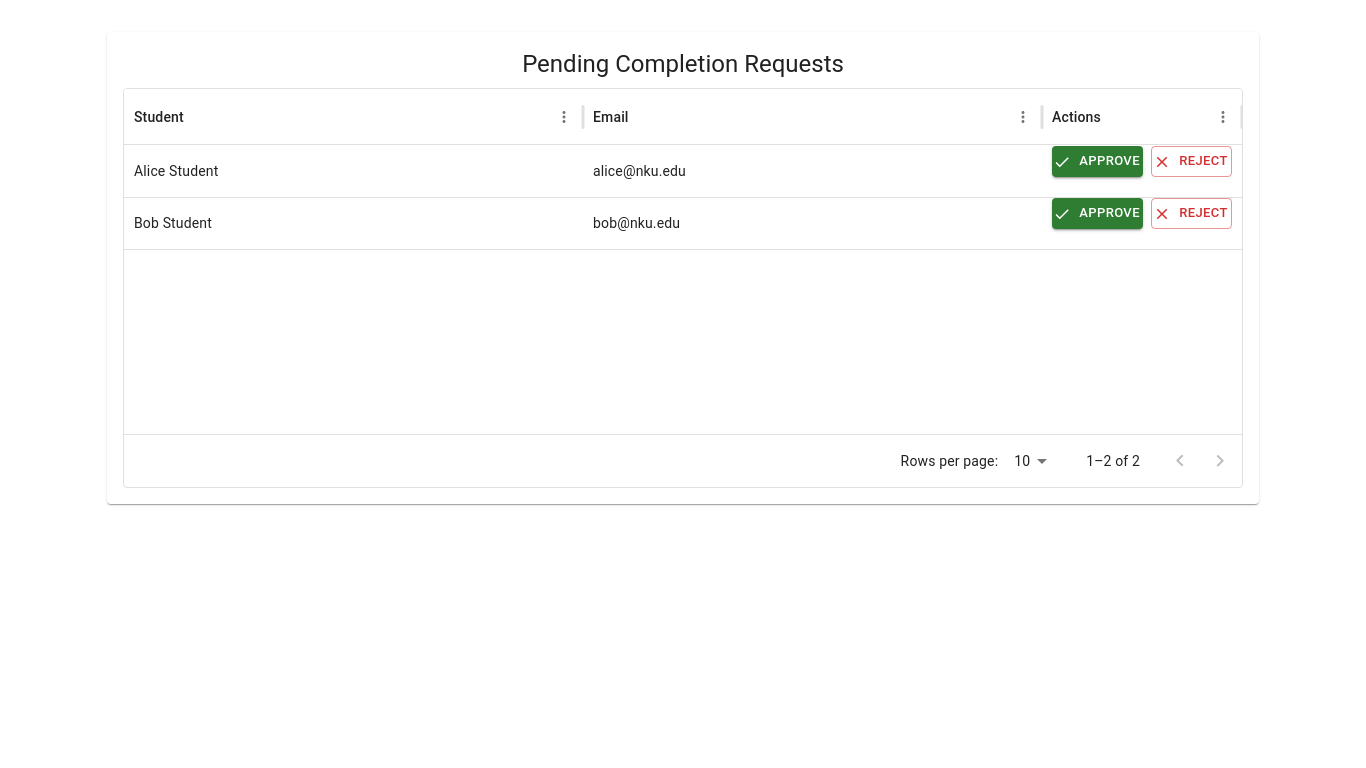
Scenario: Completion Workflow - Teacher Approvals › should reject pending completion
Check: the text "Alice Student" is shown, box [134, 163, 218, 179]
Click the button "Reject" in the row of "Alice Student".
click(1192, 162)  # box [1151, 146, 1232, 177]
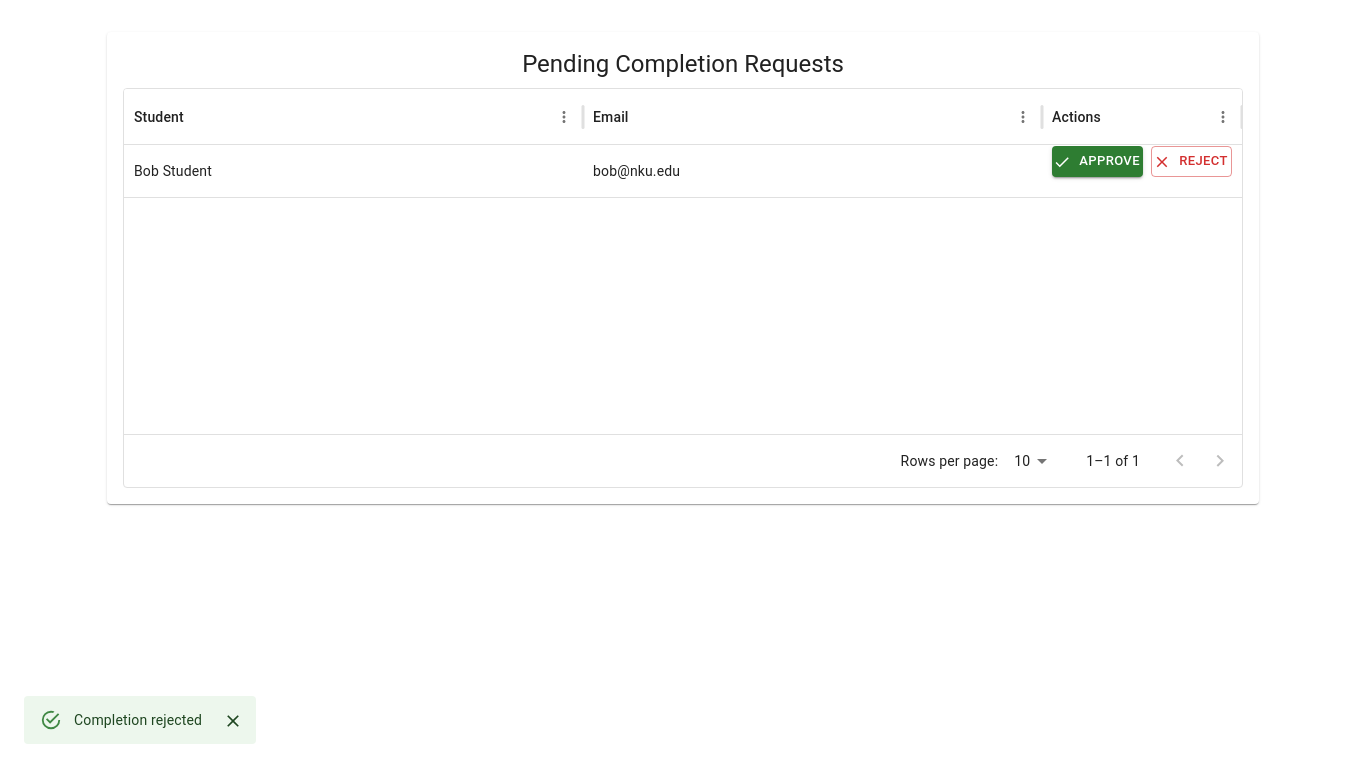
Check: the text "Alice Student" is gone
